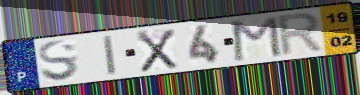4: (187, 23, 223, 66)
I: (101, 33, 119, 77)
M: (230, 14, 284, 63)
R: (276, 10, 327, 59)
S: (36, 39, 82, 83)
X: (134, 27, 180, 74)
